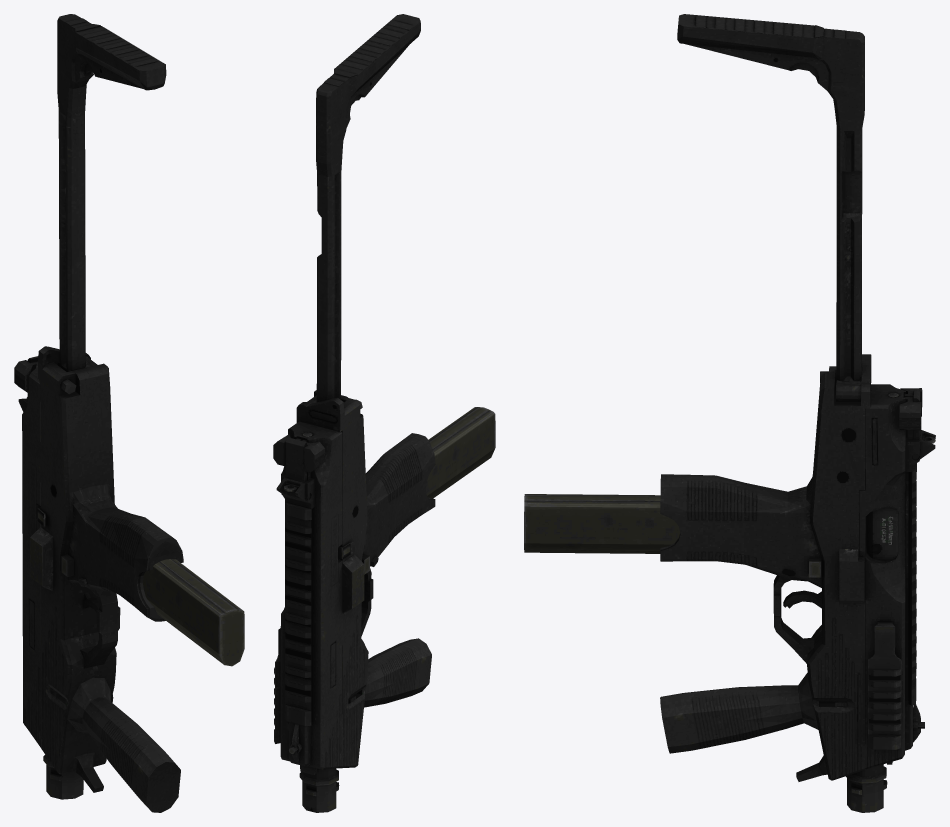
File: w_smg_mp9.obj
3 renders of one model, left to right at view 1: azimuth 30°, elevation 25°; view 2: azimuth 150°, elevation 25°; view 3: azimuth 270°, elevation 25°, orthographic. The views are drawn at different scales.
Size of the model in its own units: 0.0207 by 0.2223 by 0.1059.
1 material, 1 textured.
